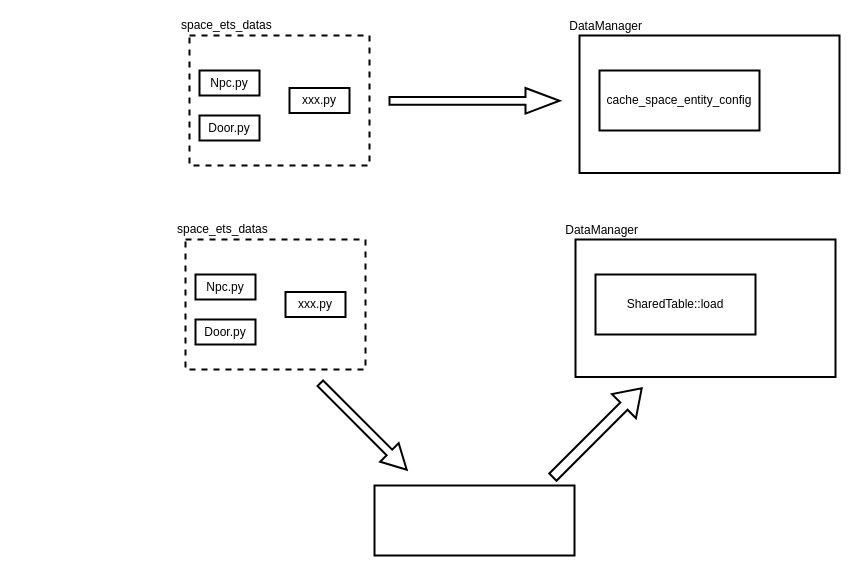
Image size: 857x573. Some labels were removed from this diagram. Each missing label, with the centre of its shape:
all_space_entity_data.py: the point at 474,520
mmap访问: the point at 597,432
离线生成: the point at 363,426
起服生成: the point at 474,100
